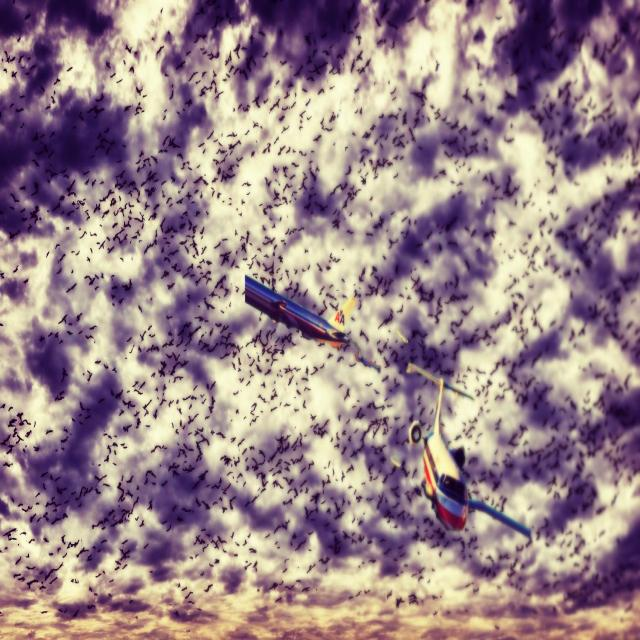airplane: (398, 361, 532, 539), (244, 275, 354, 348)
